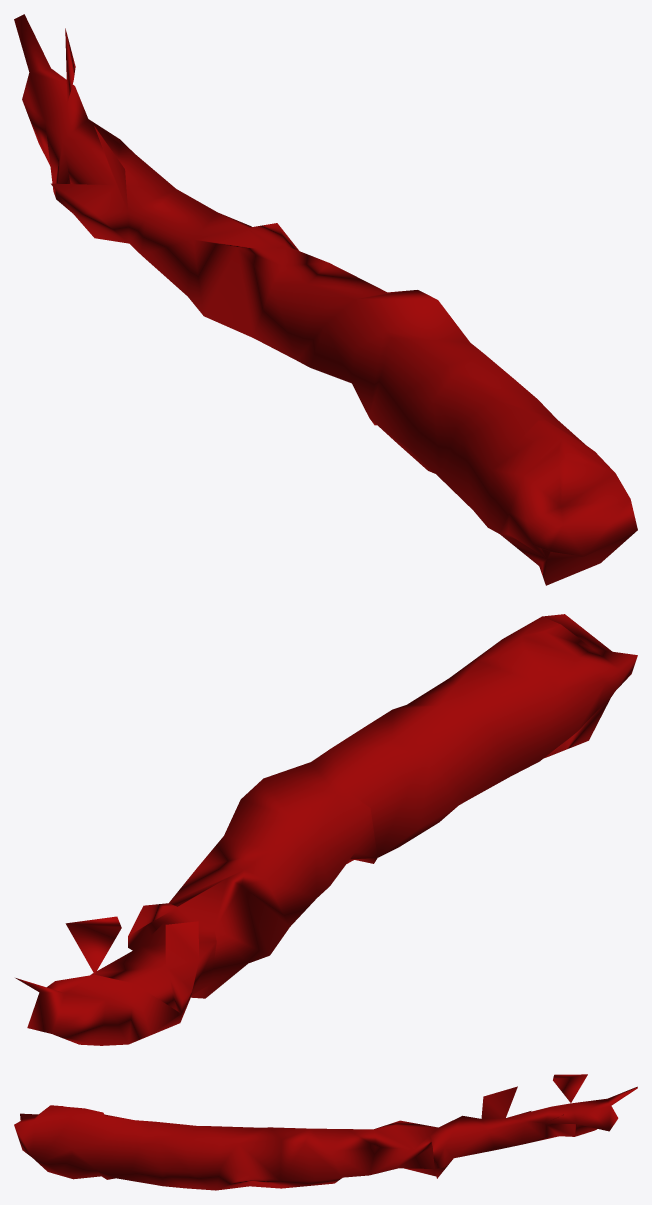
File: branches_c.glb
3 renders of one model, top to bottom at view 1: azimuth 30°, elevation 25°; view 2: azimuth 150°, elevation 25°; view 3: azimuth 270°, elevation 25°, orthographic. The views are drawn at different scales.
Visible parts, largest first — view 1: LOD0; view 2: LOD0; view 3: LOD0.
Boxes of the visible parts, <box> form: LOD0: <box>14,14,637,585</box>; LOD0: <box>15,614,637,1045</box>; LOD0: <box>14,1074,637,1190</box>.
Size of the model in its own units: 0.1234 by 0.1374 by 0.7686.
